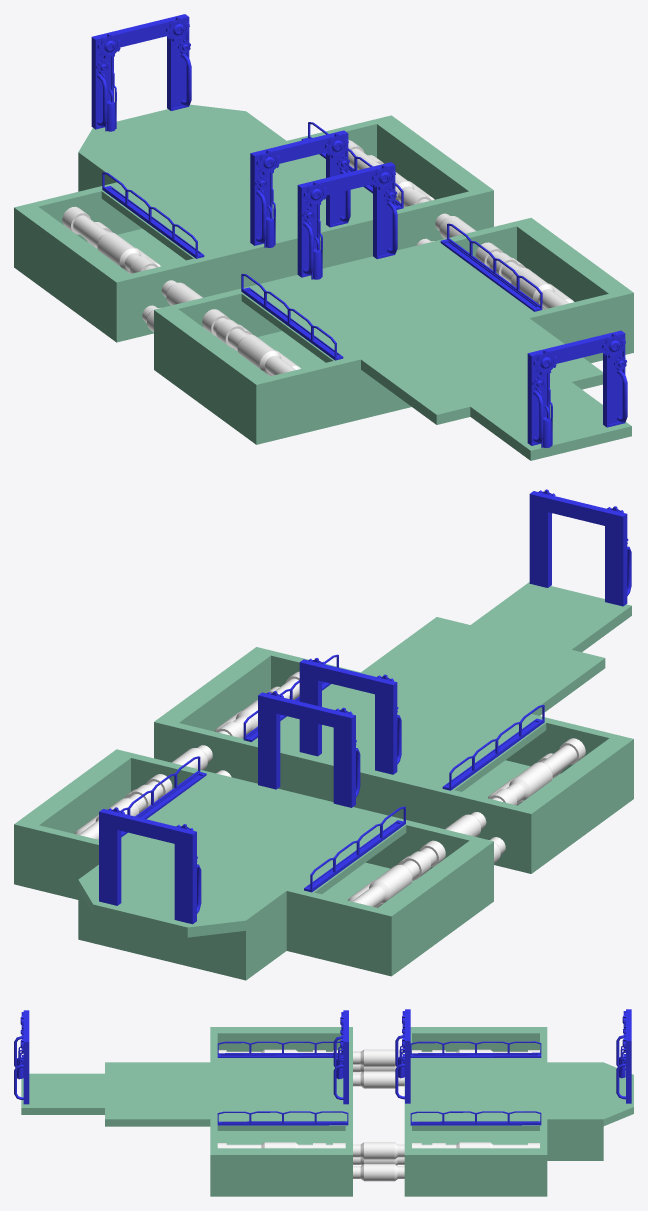
File: STARTROOM(FIN).fbx
3 renders of one model, top to bottom at view 1: azimuth 30°, elevation 25°; view 2: azimuth 150°, elevation 25°; view 3: azimuth 270°, elevation 25°, orthographic. The views are drawn at different scales.
Parts seen in each view (by area): view 1: Box336, Object084, Object086, Object083, Object085, Object089, Object091, Object092, Box340, Object093, Box337, Box339 (+2 smaller); view 2: Box336, Object086, Object085, Object083, Object084, Object091, Object089, Object093, Box337, Box339, Object094, Object090 (+2 smaller); view 3: Box336, Object094, Object093, Object086, Object083, Object085, Object084, Box337, Box338, Box340, Box339, Object092 (+2 smaller).
Part boxes in pixels (x1,y1,x2,y2): Box336: (14,104,633,460); Object084: (297,162,397,279); Object086: (91,14,191,131); Object083: (527,330,627,447); Object085: (250,130,350,247); Object089: (62,206,160,273); Object091: (202,309,300,376); Object092: (475,242,574,309); Box340: (440,223,542,311); Object093: (130,256,264,347); Box337: (102,172,204,258); Box339: (241,274,343,360); Box336: (14,582,633,980); Object086: (99,807,201,924); Object085: (258,691,360,807); Object083: (529,489,631,606); Object084: (299,658,401,774); Object091: (488,738,585,805); Object089: (347,840,445,907); Object093: (388,788,516,879); Box337: (304,806,405,892); Box339: (442,705,544,790); Object094: (114,721,243,812); Object090: (74,774,172,839); Box336: (21,1027,633,1196); Object094: (313,1142,445,1181); Object093: (313,1049,445,1088); Object086: (616,1009,631,1103); Object083: (14,1010,29,1104); Object085: (395,1009,410,1103); Object084: (333,1010,348,1104); Box337: (410,1041,541,1057); Box338: (410,1111,541,1125); Box340: (217,1111,348,1125); Box339: (217,1041,343,1057); Object092: (217,1142,345,1148).
Bounding box in the file's own units: 950 × 374 × 1945.
